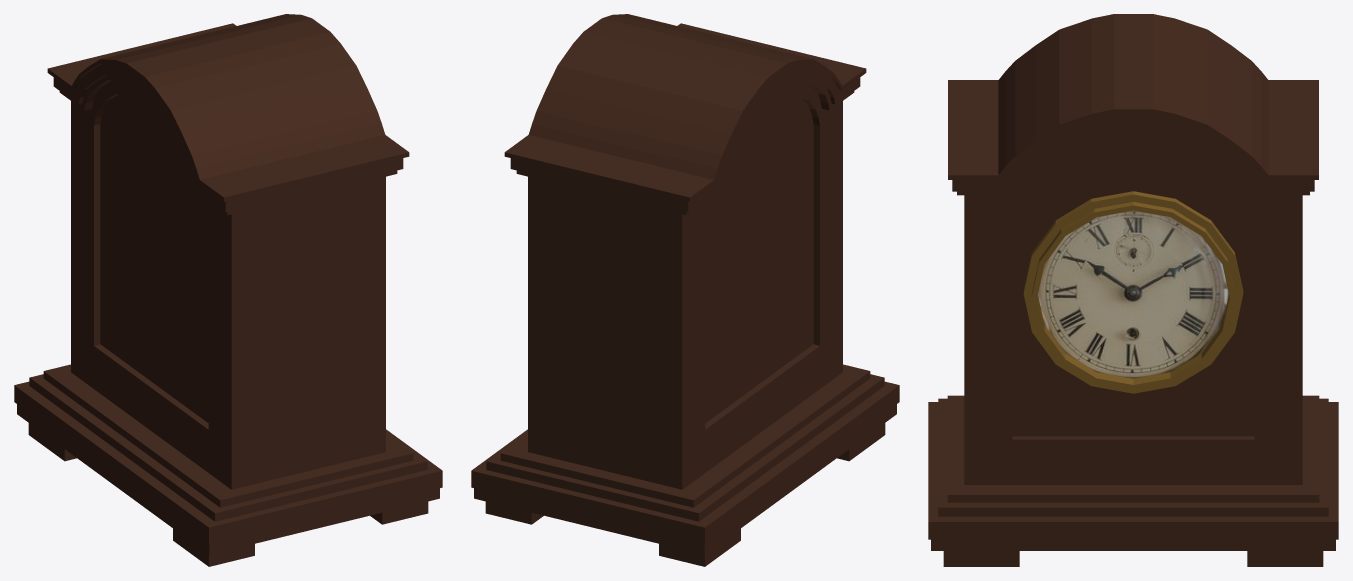
The model's file is clock.fbx.
3 renders of one model, left to right at view 1: azimuth 30°, elevation 25°; view 2: azimuth 150°, elevation 25°; view 3: azimuth 270°, elevation 25°, orthographic. The views are drawn at different scales.
Visible parts, largest first — view 1: Circle; view 2: Circle; view 3: Circle.
Part boxes in pixels (<box>): Circle: <box>14,14,442,566</box>; Circle: <box>471,14,899,566</box>; Circle: <box>928,14,1338,566</box>.
Bounding box in the file's own units: 303 × 528 × 437.
Materials: 3 (1 with a texture image).
